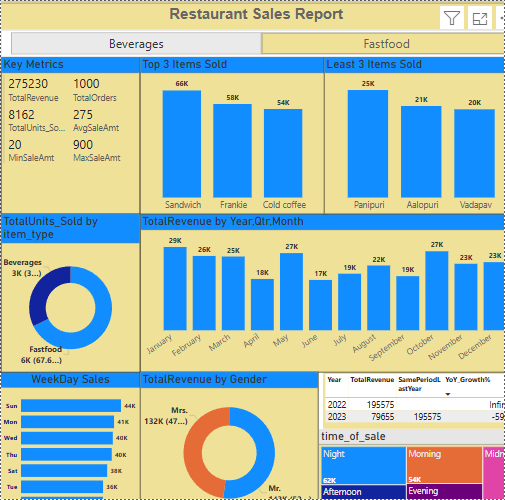

The dashboard page shown, as its layout file describes it:
{"tool":"powerbi","page":{"name":"Page 1","canvas":[1257,1245],"ordinal":0},"visuals":[{"type":"tableEx","fields":{"Values":["Date.date.Variation.Date Hierarchy.Year","ItemSales.TotalSaleAmt","ItemSales.PreviousYear","ItemSales.YoY_Growth%"]},"box":[805.9,928.2,494.1,141.5],"z":0},{"type":"multiRowCard","title":"Key Metrics","fields":{"Values":["ItemSales.TotalSaleAmt","ItemSales.TotalOrders","ItemSales.TotalUnits_Sold","ItemSales.AvgSaleAmt","ItemSales.MinSaleAmt","ItemSales.MaxSaleAmt"]},"box":[0,139.1,347.8,393.4],"z":1000},{"type":"clusteredColumnChart","title":"TotalRevenue by Year,Qtr,Month","fields":{"Category":["Date.date.Variation.Date Hierarchy.Year","Date.date.Variation.Date Hierarchy.Quarter","Date.date.Variation.Date Hierarchy.Month","Date.date.Variation.Date Hierarchy.Day"],"Y":["ItemSales.TotalSaleAmt"]},"box":[347.8,532.5,952.2,395.8],"z":2000},{"type":"clusteredBarChart","title":"WeekDay Sales","fields":{"Category":["Date.WeekDay"],"Y":["ItemSales.TotalSaleAmt"]},"box":[0,928.2,347.8,364.6],"z":3000},{"type":"clusteredColumnChart","title":"Top 3 Items Sold","fields":{"Category":["Items.item_name"],"Y":["ItemSales.TotalSaleAmt"]},"box":[347.8,139.1,467.7,393.4],"z":4000},{"type":"clusteredColumnChart","title":"Least 3 Items Sold","fields":{"Category":["Items.item_name"],"Y":["ItemSales.TotalSaleAmt"]},"box":[808.3,139.1,491.7,393.4],"z":5000},{"type":"treemap","title":" time_of_sale","fields":{"Group":["ItemSales.time_of_sale"],"Values":["ItemSales.TotalSaleAmt"]},"box":[793.9,1069.7,506.1,230.3],"z":6000},{"type":"donutChart","fields":{"Category":["Items.item_type"],"Y":["ItemSales.TotalUnits_Sold"]},"box":[0,532.5,347.8,395.8],"z":7000},{"type":"donutChart","title":"TotalRevenue by Gender","fields":{"Category":["ItemSales.received_by"],"Y":["ItemSales.TotalSaleAmt"]},"box":[347.8,928.2,446.1,364.6],"z":8000},{"type":"textbox","box":[0,0,1283.2,72],"z":9000},{"type":"slicer","fields":{"Values":["Items.item_type"]},"box":[0,72,1300,67.2],"z":10000}]}

Visuals, with their boxes in screenshot pixels (x1, y1, x2, y2), scaled from the page's 1257x1245 canvas onto the 505x500 screenshot:
tableEx - Date.date.Variation.Date Hierarchy.Year x ItemSales.TotalSaleAmt: l=324, t=373, r=504, b=430
"Key Metrics" multiRowCard: l=0, t=56, r=140, b=214
"TotalRevenue by Year,Qtr,Month" clusteredColumnChart: l=140, t=214, r=504, b=373
"WeekDay Sales" clusteredBarChart: l=0, t=373, r=140, b=499
"Top 3 Items Sold" clusteredColumnChart: l=140, t=56, r=328, b=214
"Least 3 Items Sold" clusteredColumnChart: l=325, t=56, r=504, b=214
" time_of_sale" treemap: l=319, t=430, r=504, b=499
donutChart - Items.item_type x ItemSales.TotalUnits_Sold: l=0, t=214, r=140, b=373
"TotalRevenue by Gender" donutChart: l=140, t=373, r=319, b=499
textbox: l=0, t=0, r=504, b=29
slicer - Items.item_type: l=0, t=29, r=504, b=56
